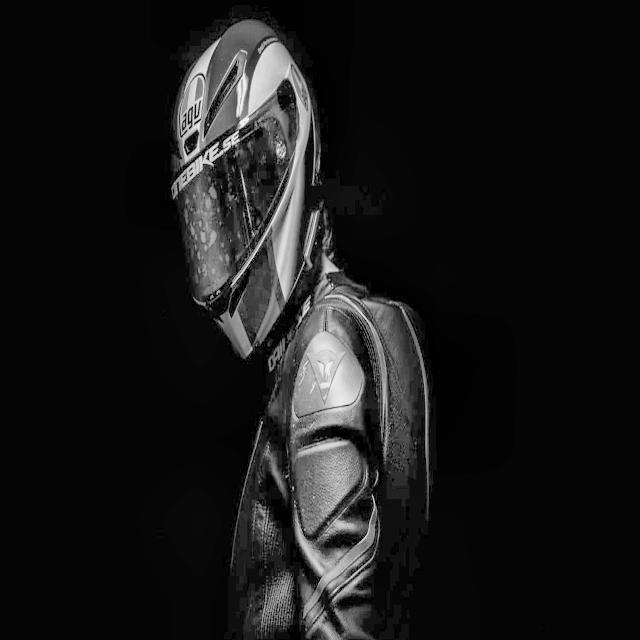Helmet: (158, 14, 336, 381)
